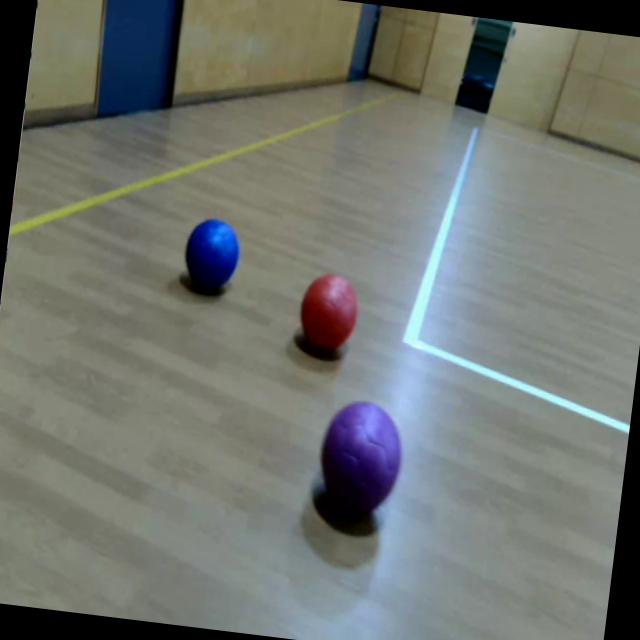blue_ball: (182, 214, 242, 292)
purple_ball: (316, 396, 406, 512)
red_ball: (294, 270, 362, 358)
